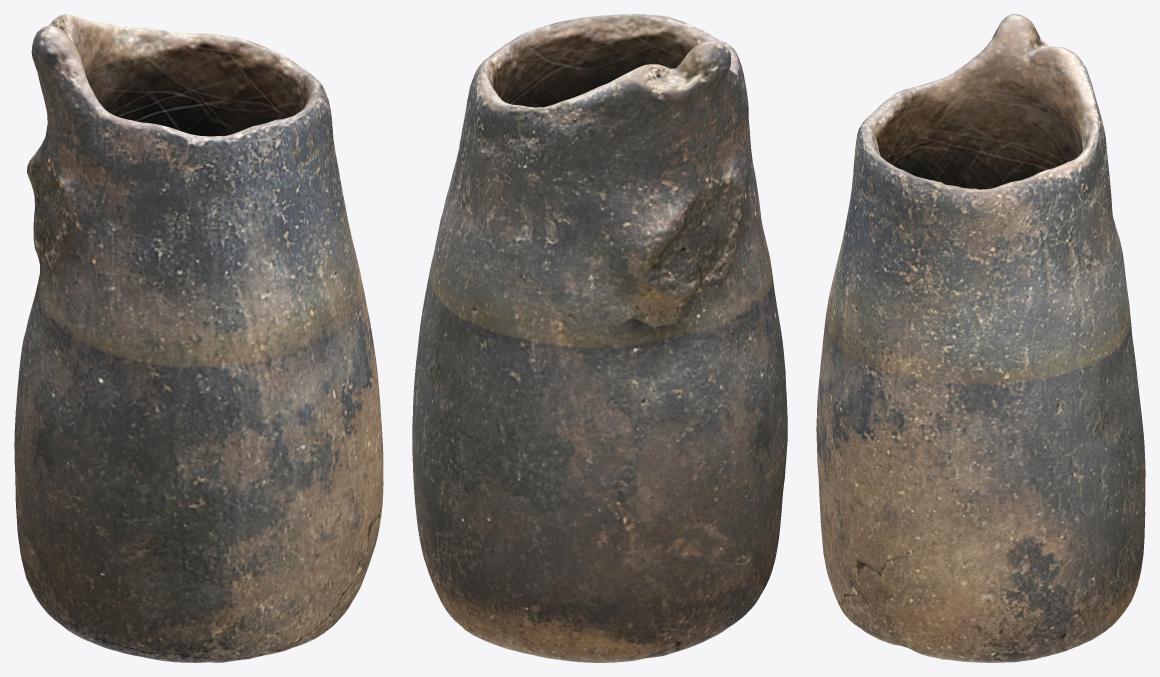
Rendered from vaso.glb.
The picture shows the model from 3 angles, left to right: view 1: azimuth 30°, elevation 25°; view 2: azimuth 150°, elevation 25°; view 3: azimuth 270°, elevation 25°; orthographic projection. The views are drawn at different scales.
Visible parts, largest first — view 1: default_BIEN17_1001_0; view 2: default_BIEN17_1001_0; view 3: default_BIEN17_1001_0.
Boxes of the visible parts, x1,y1,x2,y2 form: default_BIEN17_1001_0: (14, 14, 383, 662); default_BIEN17_1001_0: (412, 14, 787, 662); default_BIEN17_1001_0: (816, 14, 1145, 662).
Size of the model in its own units: 13.46 by 24.71 by 13.47.
1 material, 1 textured.
